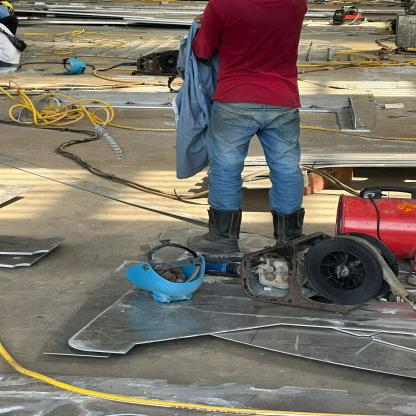bota: (183, 206, 242, 254), (273, 208, 307, 244)
